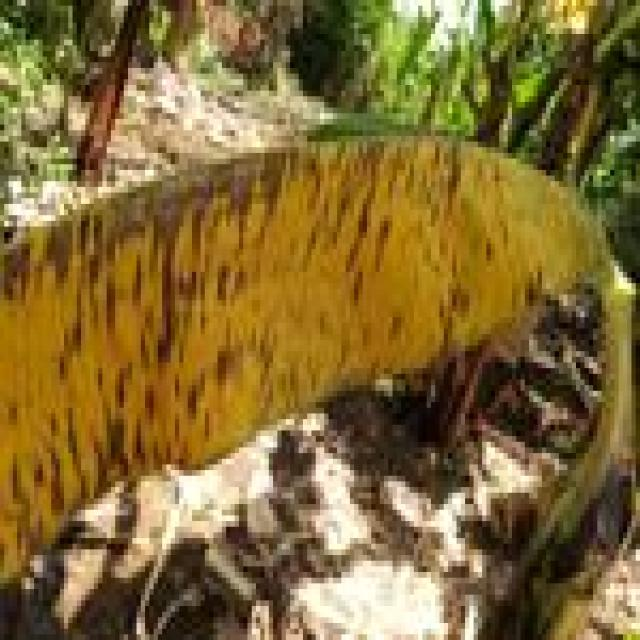Early_rust: (0, 105, 640, 553)
